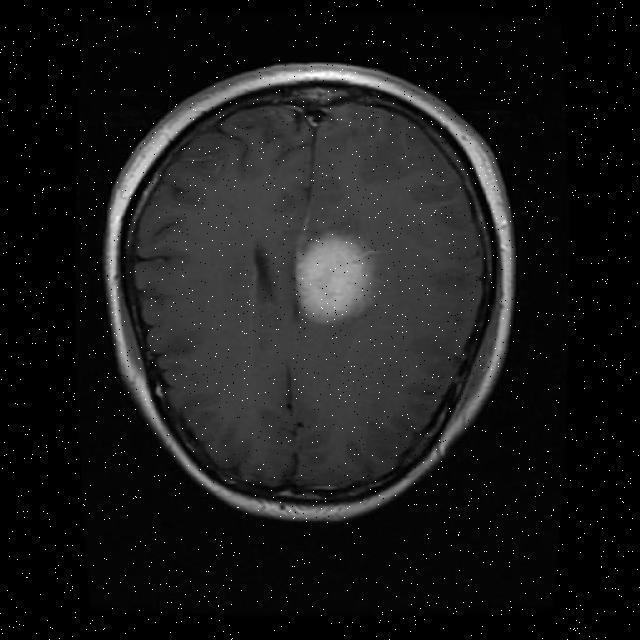Meningioma: (296, 234, 371, 323)
